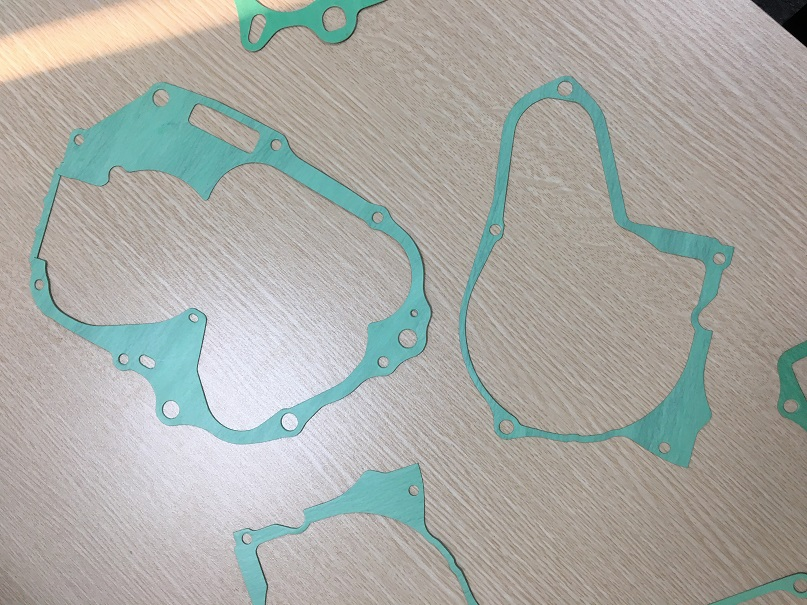type1: (448, 69, 741, 469)
type3: (25, 79, 445, 451)
